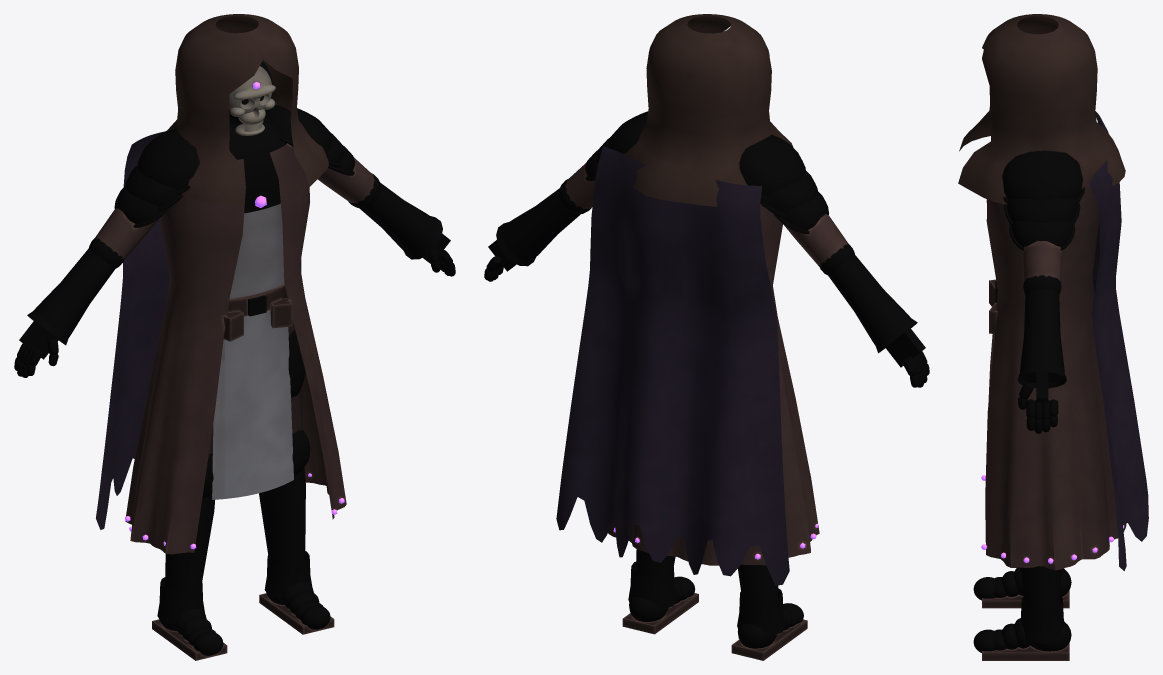
Rendered from cavaleiro_malha.glb.
3 renders of one model, left to right at view 1: azimuth 30°, elevation 25°; view 2: azimuth 150°, elevation 25°; view 3: azimuth 270°, elevation 25°, orthographic.
Parts seen in each view (by area): view 1: cavaleiro; view 2: cavaleiro; view 3: cavaleiro.
Part boxes in pixels (bbox=[...]): cavaleiro: bbox=[14, 14, 455, 660]; cavaleiro: bbox=[484, 14, 929, 660]; cavaleiro: bbox=[958, 14, 1148, 660].
Size of the model in its own units: 1.35 by 1.8 by 0.5157.
Materials: 1 (1 with a texture image).
